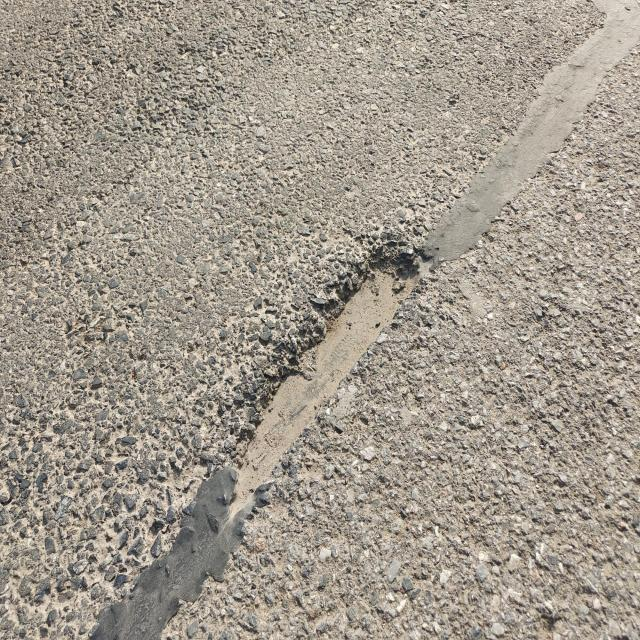Pothole: (228, 242, 434, 518)
